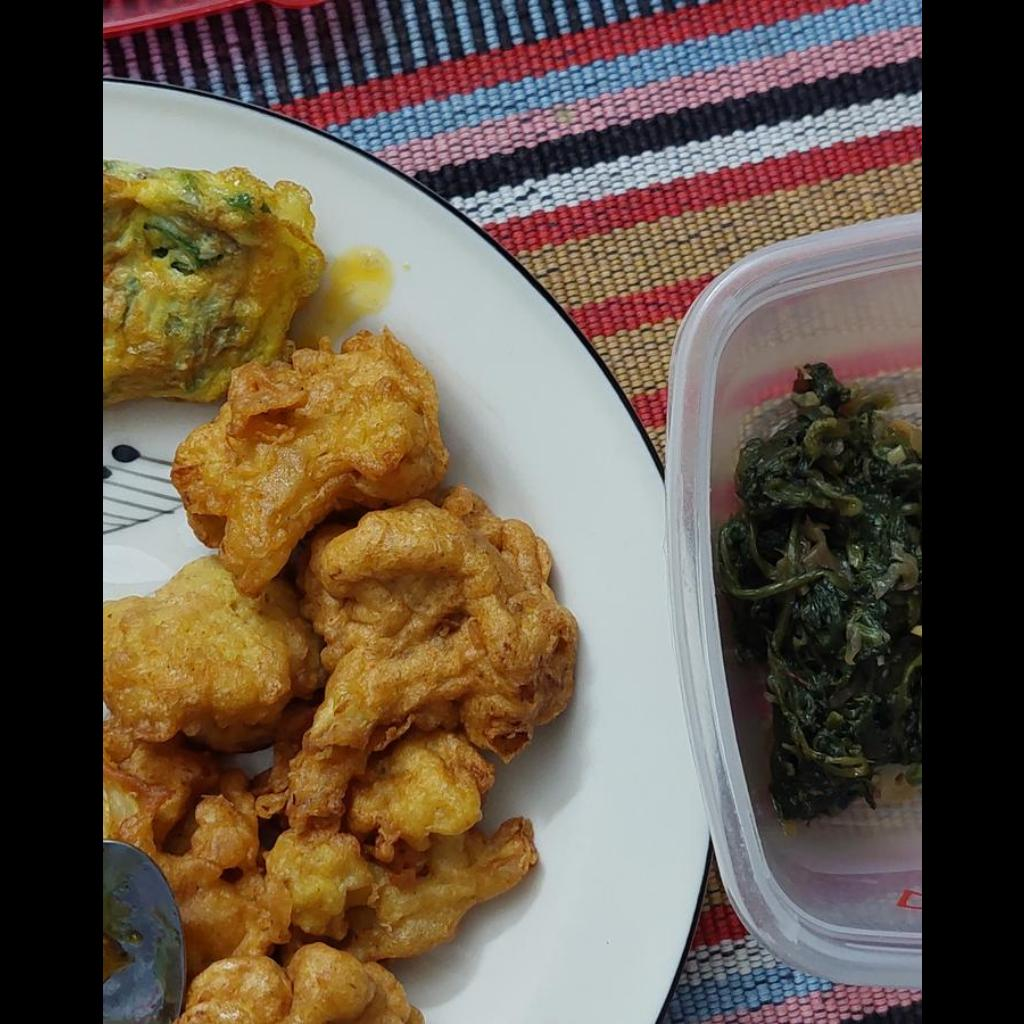chop-alu: (102, 334, 583, 1023)
egg-poached: (102, 161, 324, 407)
shak: (710, 365, 920, 818)
